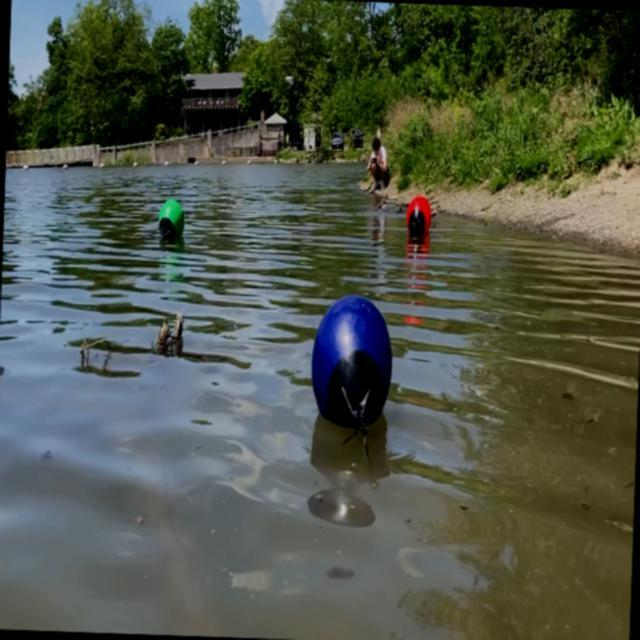buoy: (310, 290, 395, 430), (156, 198, 185, 245), (406, 195, 432, 238)
